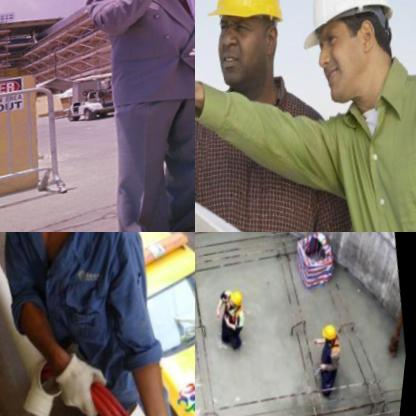helmet: (281, 0, 416, 127), (195, 0, 315, 101), (227, 285, 250, 311), (320, 321, 343, 344)
